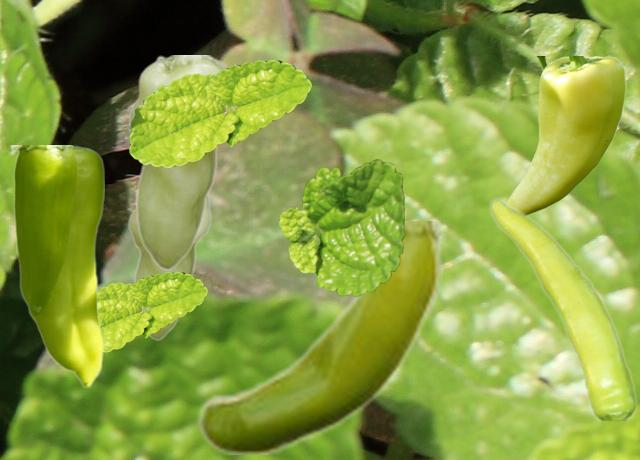green_chili: (195, 221, 445, 453), (489, 196, 635, 419), (9, 145, 103, 386), (126, 55, 228, 269), (506, 56, 625, 214), (127, 191, 210, 339)
